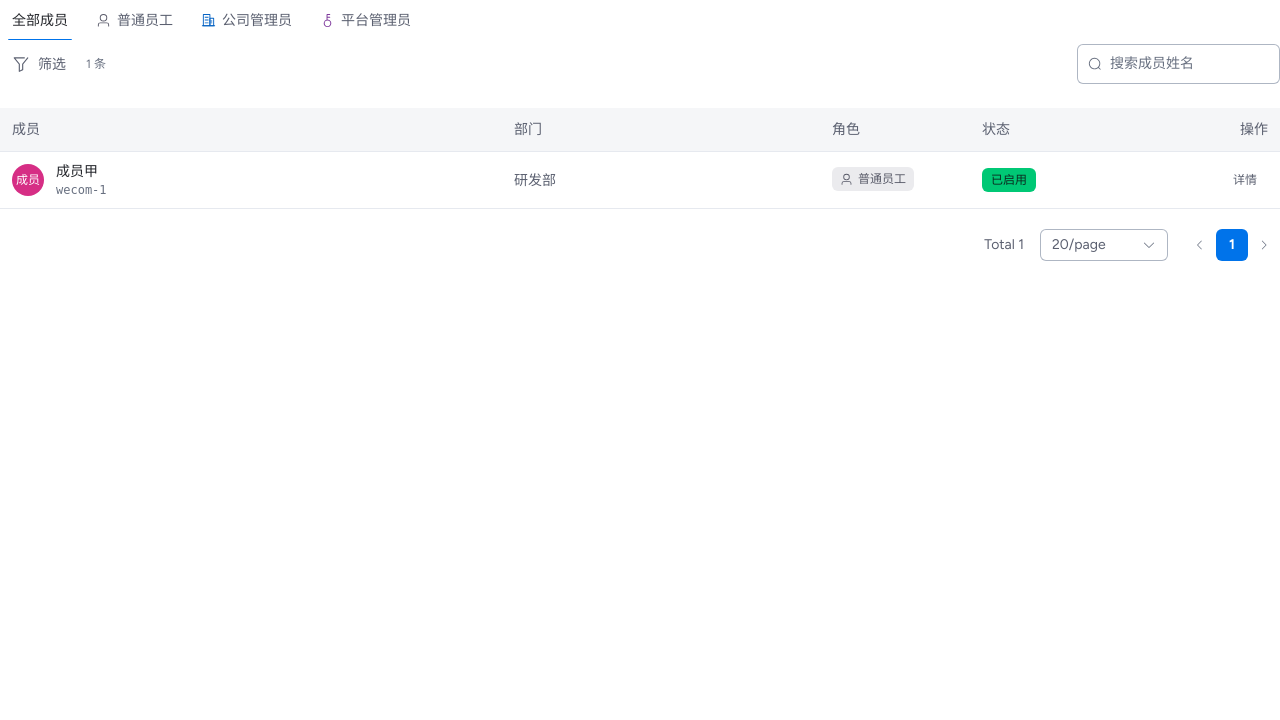
it: 成员版本冲突 › 412 后刷新列表与已打开详情，保留提示且不自动重试
Click the button "详情" at (1245, 180), box [1222,164,1268,196]
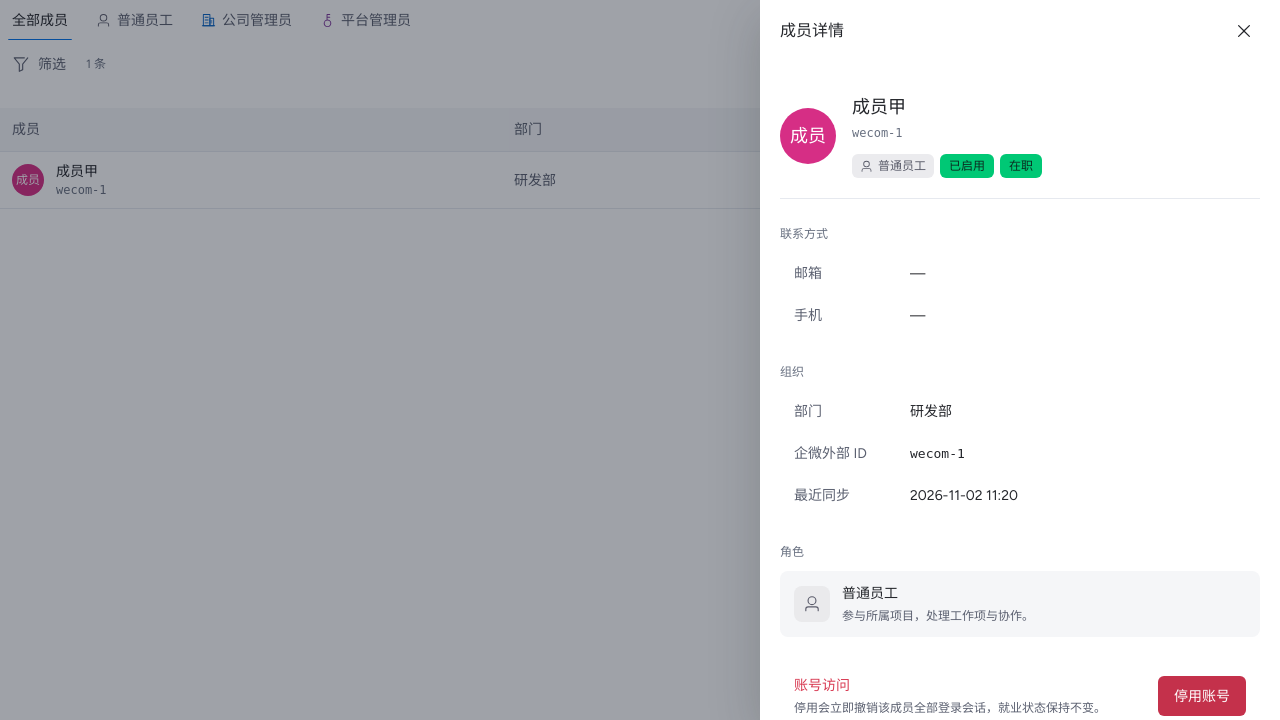
Click the button "停用账号" at (1202, 696), box [1158,676,1246,716]
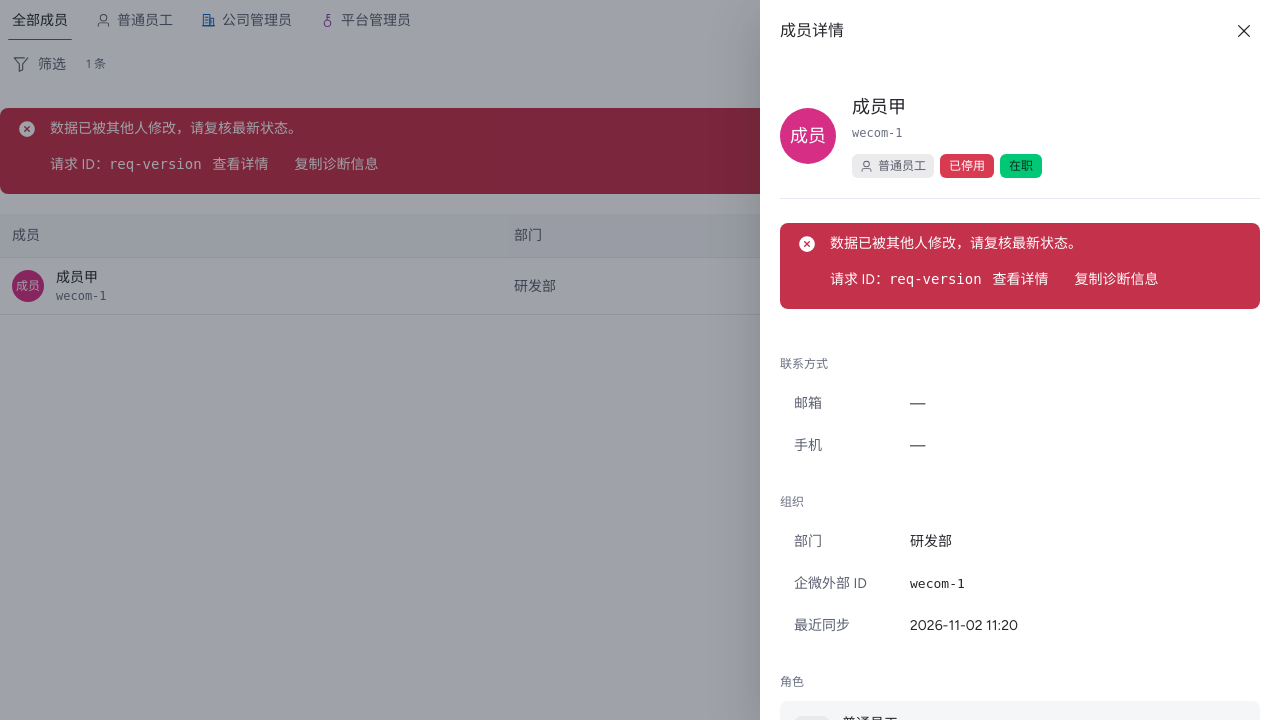
Result: the text "数据已被其他人修改，请复核最新状态。" is shown at [50,120,302,137]
Result: the text "req-version" is shown at [109,156,202,172]
